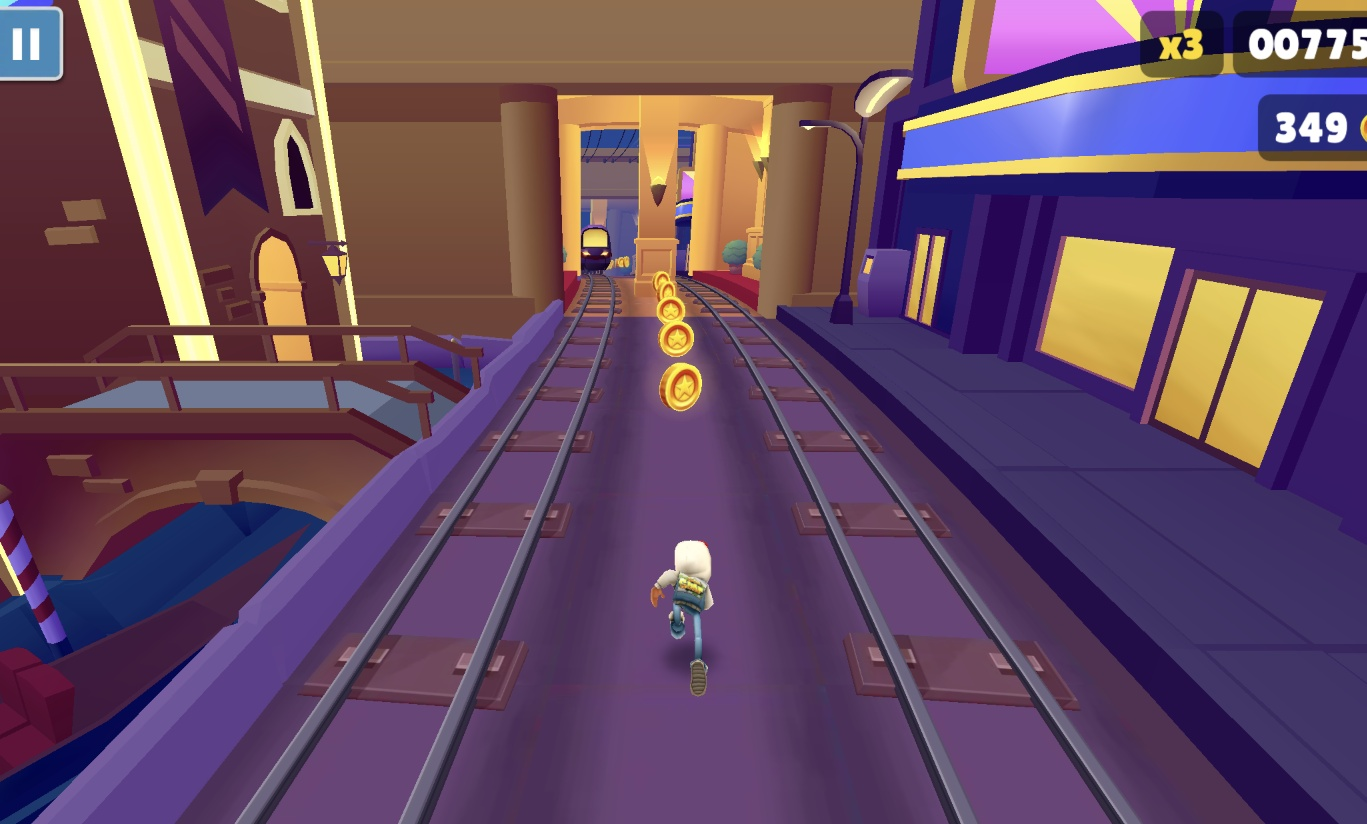pillar: (634, 95, 679, 294)
train: (581, 224, 613, 275)
